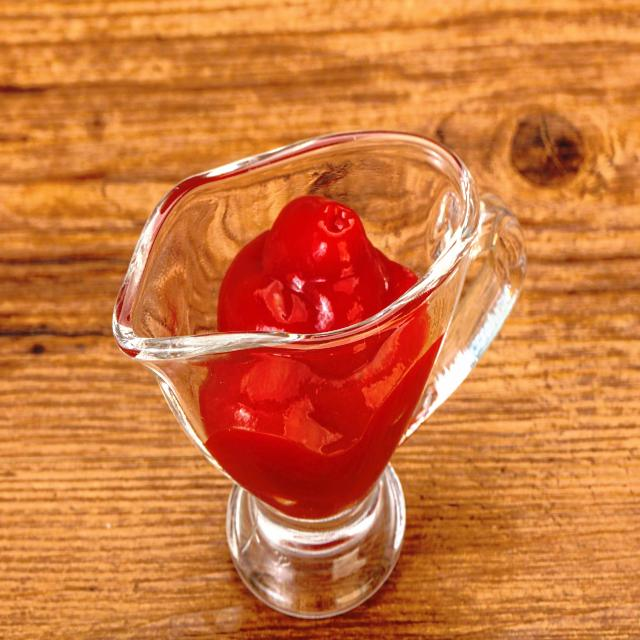ketchup: (197, 192, 451, 523)
